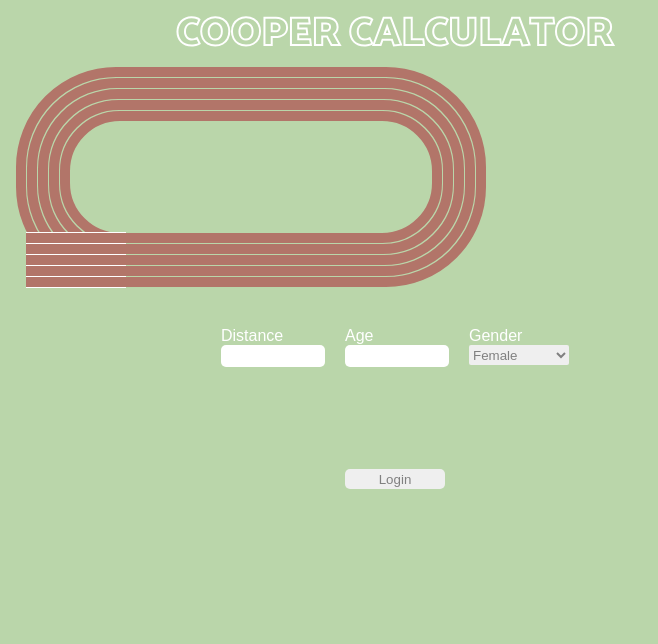
User attempts save data › successfully
This screenshot has width=658, height=644.
Click the button with id "login" at (395, 479), box left=345, top=469, right=445, bottom=489
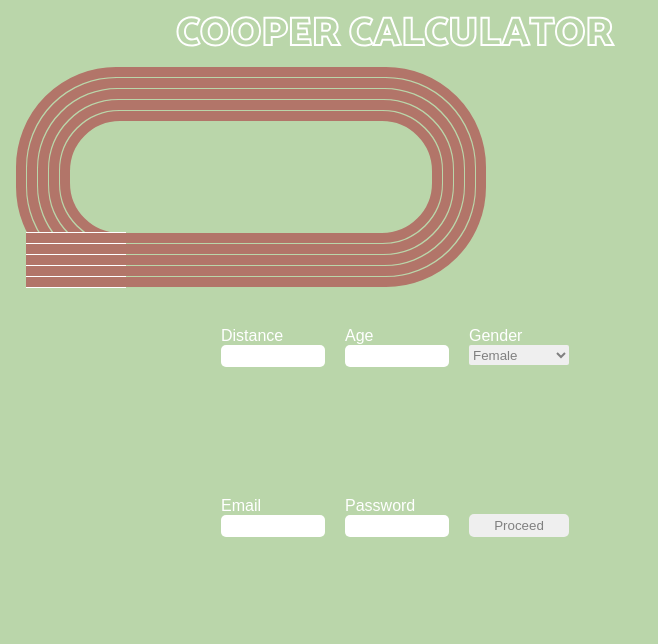
Type "user@mail.com" into the field with id "email" at (273, 526), box left=221, top=515, right=325, bottom=537
Type "password" into the field below "Password" at (397, 526), box left=345, top=515, right=449, bottom=537
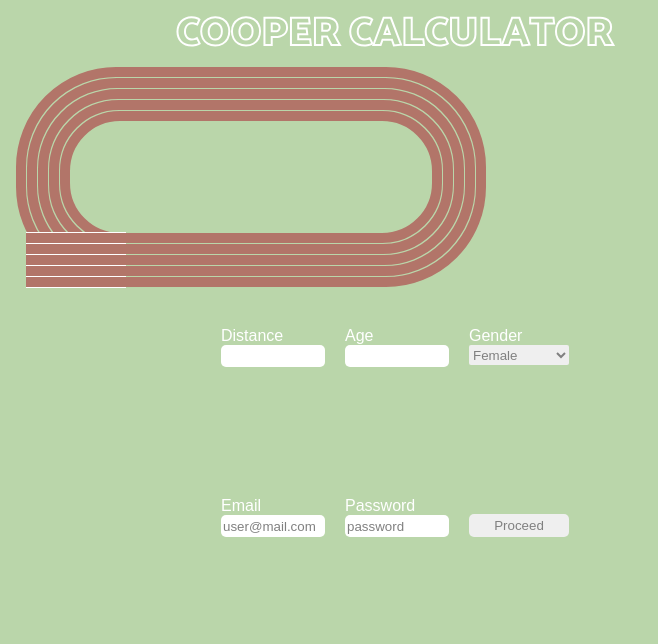
Click the button "Proceed" at (519, 526), box left=469, top=514, right=569, bottom=537
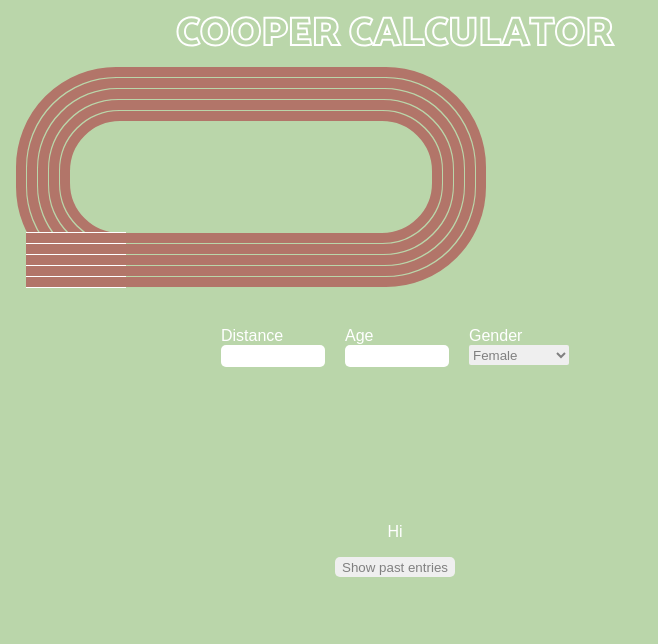
Type "1000" into the field with id "distance" at (273, 356), box left=221, top=345, right=325, bottom=367
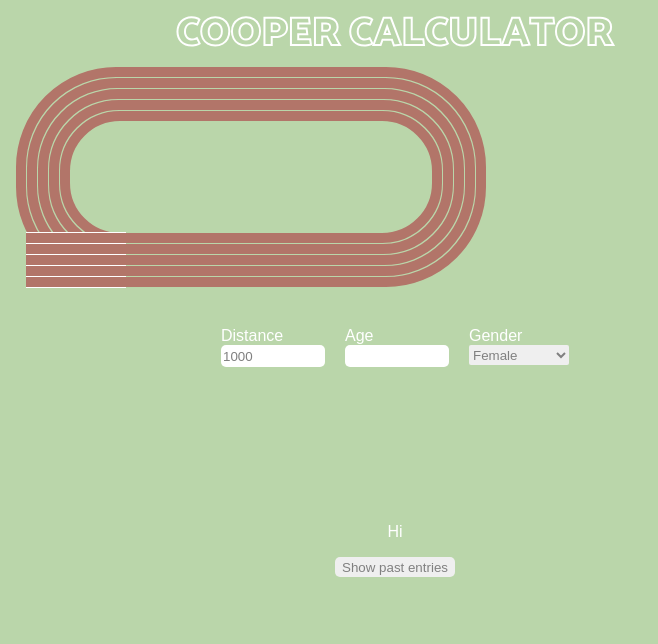
Select "Female" in the dropdown with id "gender" at (519, 355), box left=469, top=345, right=569, bottom=365
Type "23" into the field with id "age" at (397, 356), box left=345, top=345, right=449, bottom=367
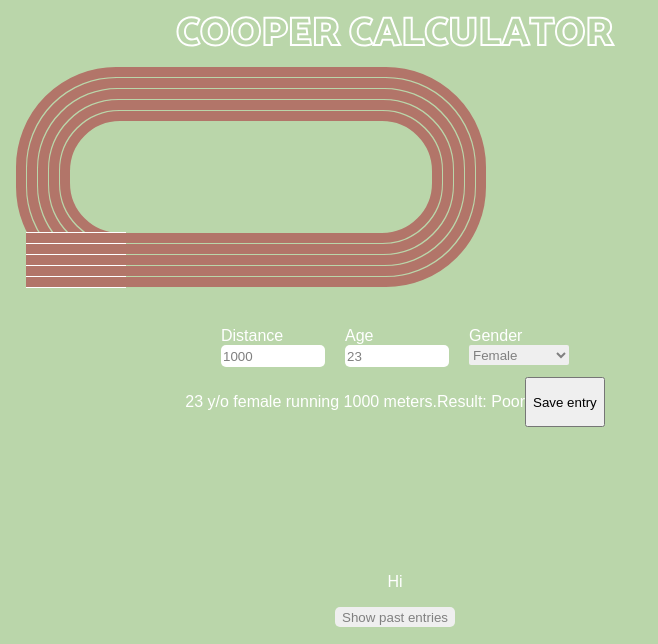
Click the button with id "save-result" at (565, 402), box left=525, top=377, right=605, bottom=427
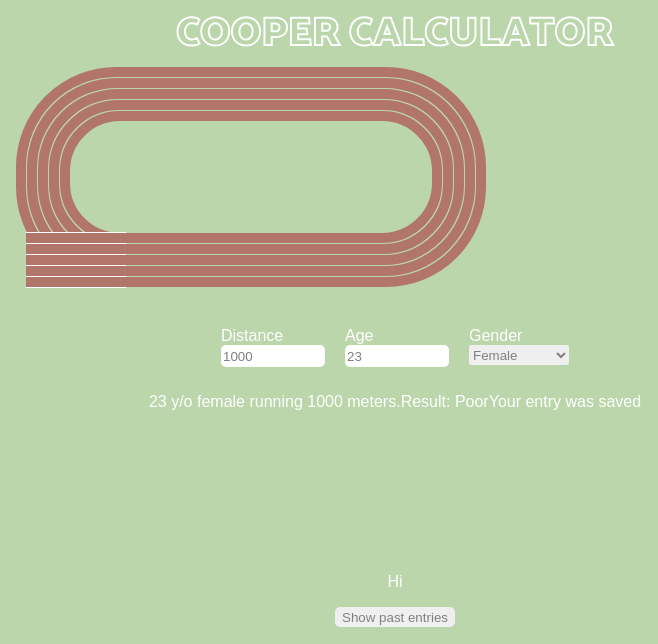
Now the text "Your entry was saved" is shown, box left=489, top=393, right=641, bottom=411
